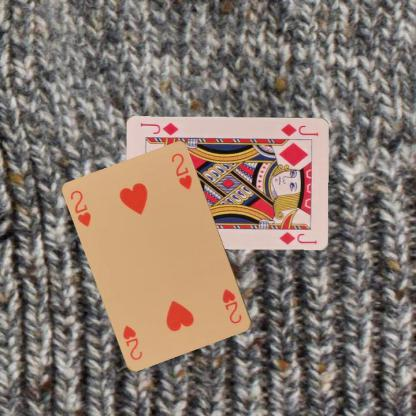2h: (68, 188, 92, 228), (220, 286, 243, 325)
Jd: (279, 120, 320, 138)
